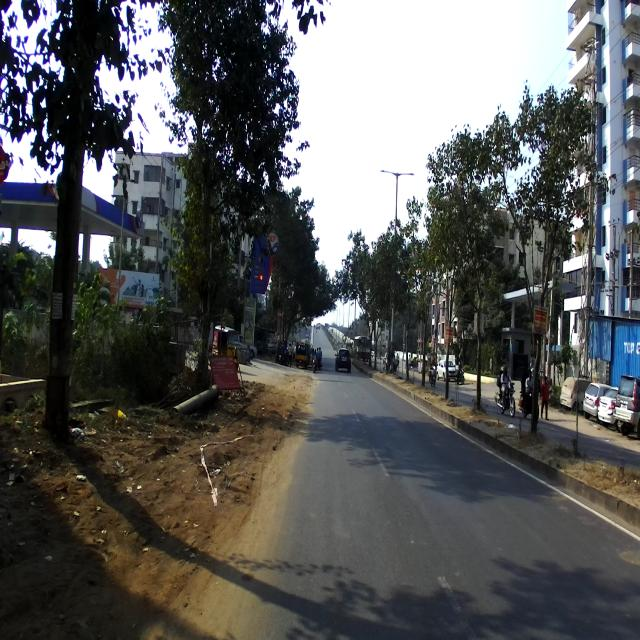tree ahead at: (46, 1, 102, 447)
